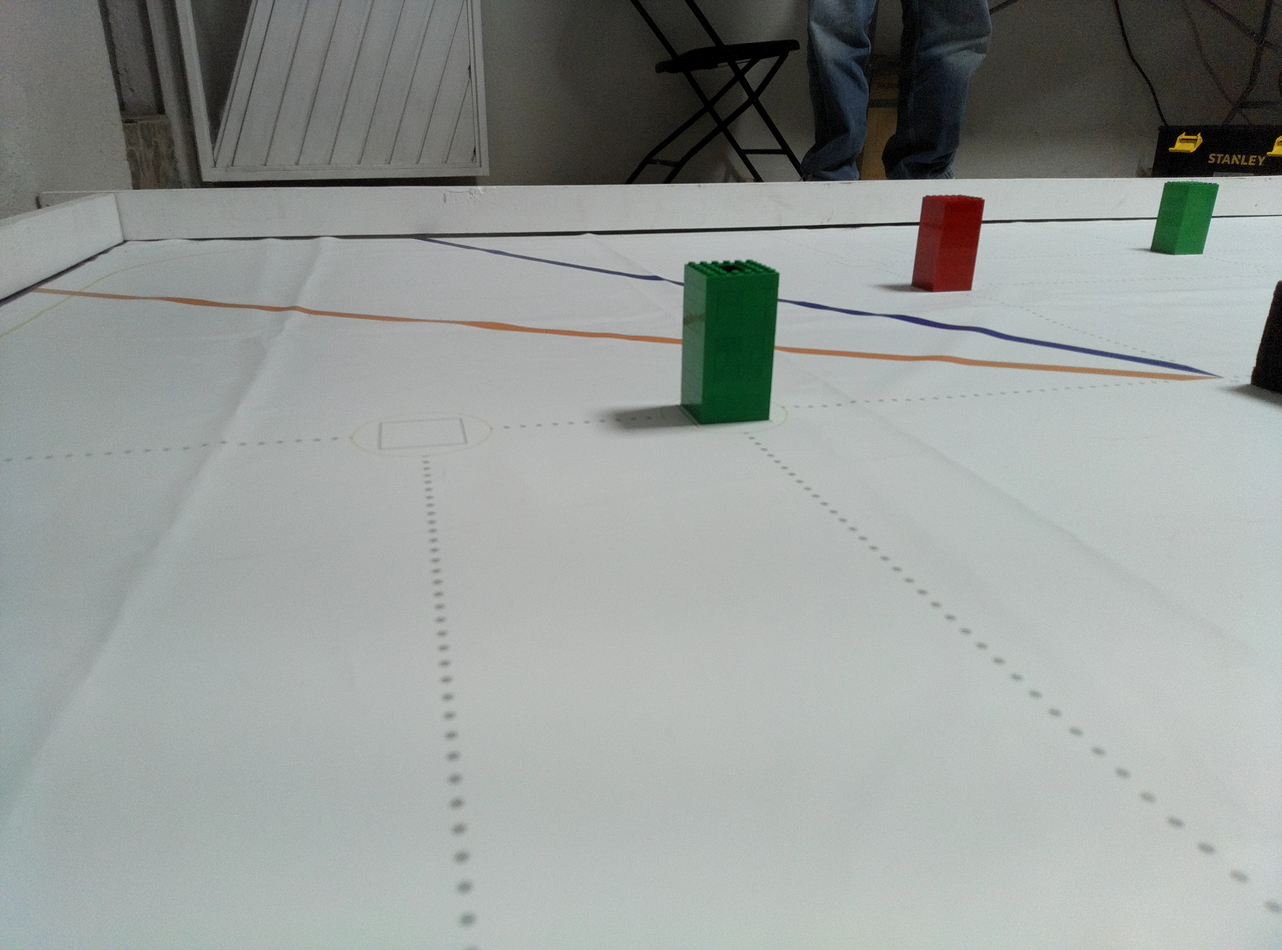greenbox: (679, 258, 780, 426), (1148, 180, 1220, 257)
redbox: (909, 193, 985, 295)
